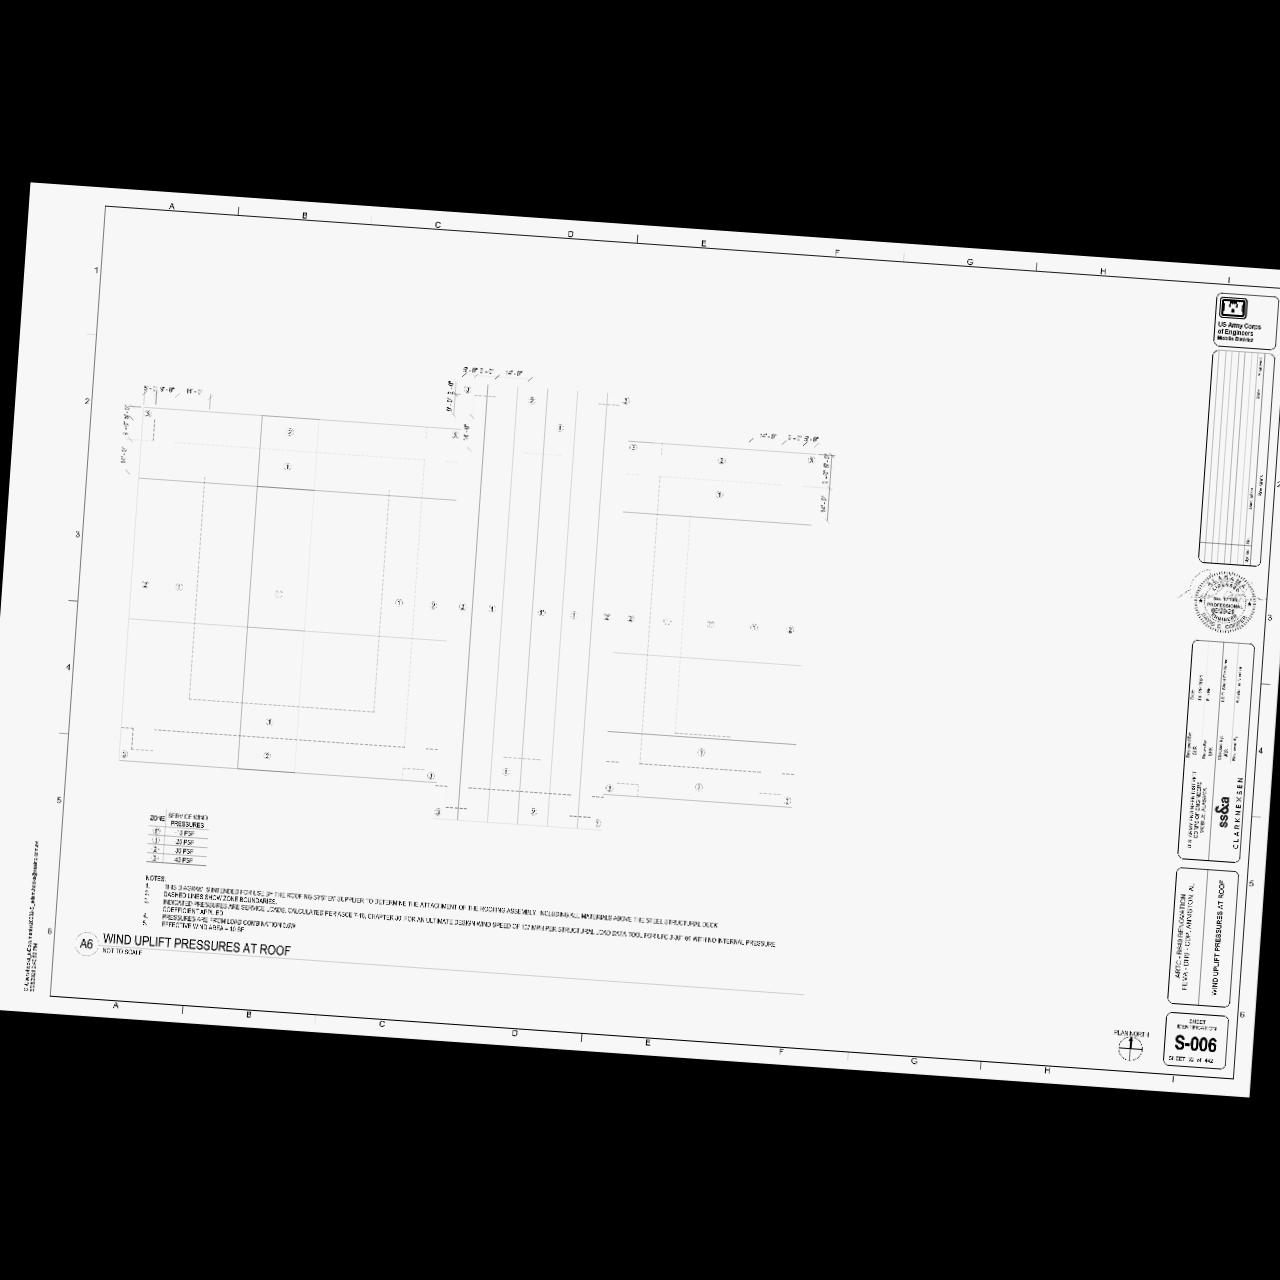title: (71, 926, 809, 1010)
